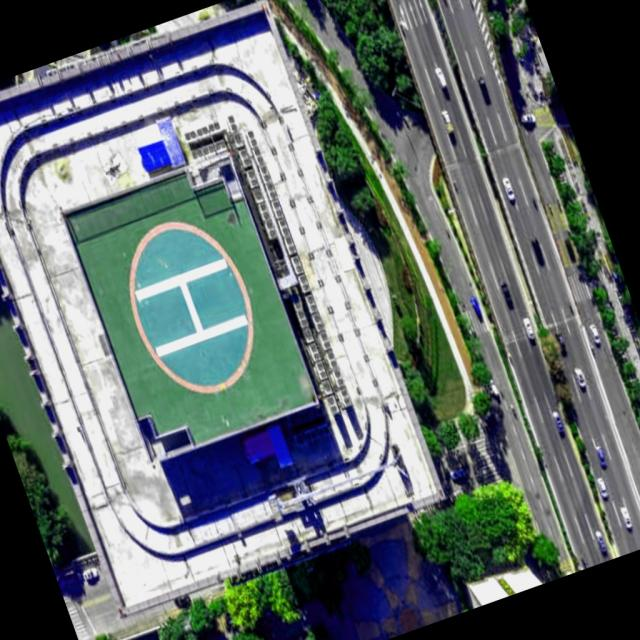helipad: (125, 216, 256, 397)
